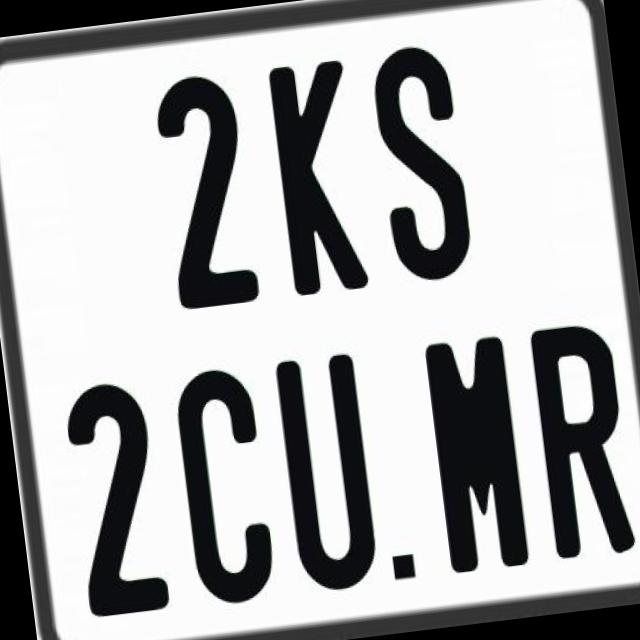2: (60, 374, 172, 616), (148, 70, 259, 313)
C: (170, 366, 278, 617)
K: (263, 57, 366, 300)
M: (421, 332, 534, 574)
R: (528, 321, 640, 568)
S: (366, 42, 478, 288)
U: (274, 353, 384, 601)
